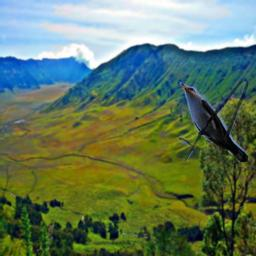Cuckoo: (179, 81, 248, 162)
